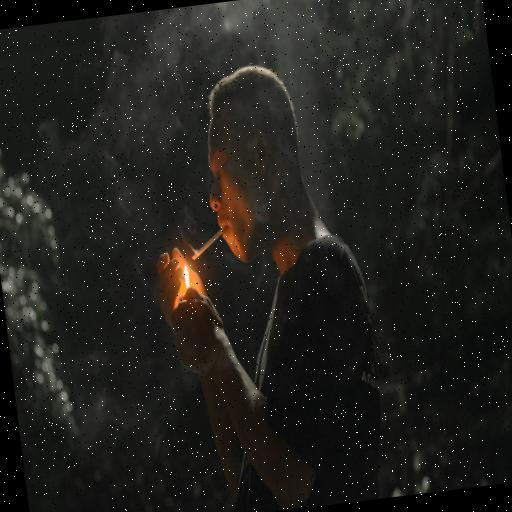terdeteksi merokok: (166, 146, 247, 285)
